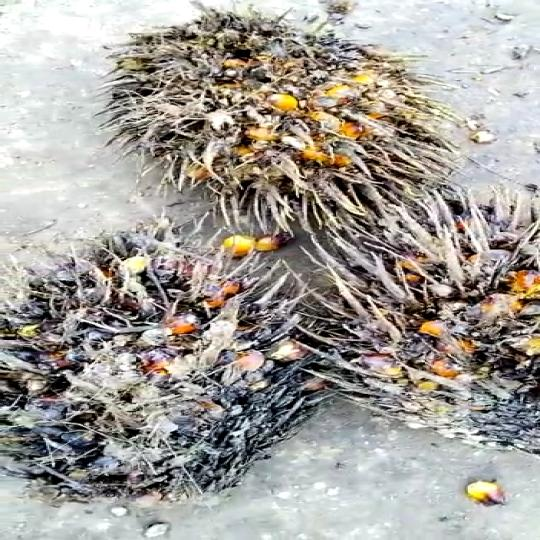terlalu masak: (99, 6, 472, 232), (0, 245, 307, 506)
